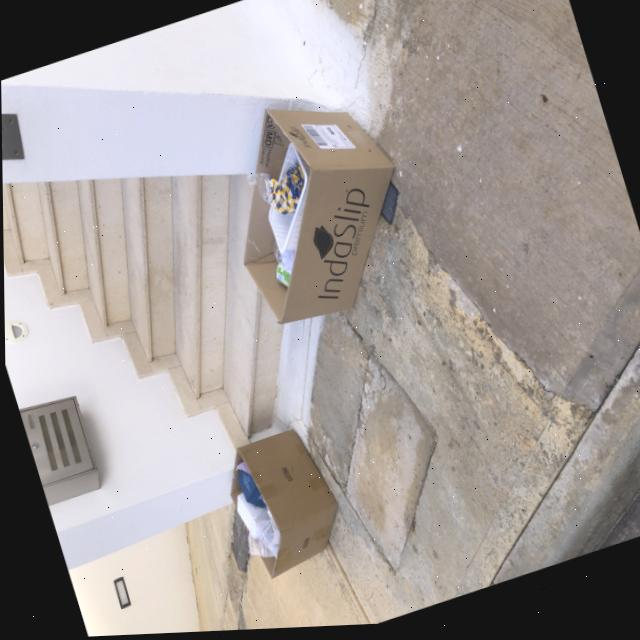Other: (202, 76, 432, 343), (215, 423, 351, 587)
